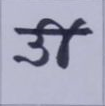i_matra: (43, 17, 71, 67)
